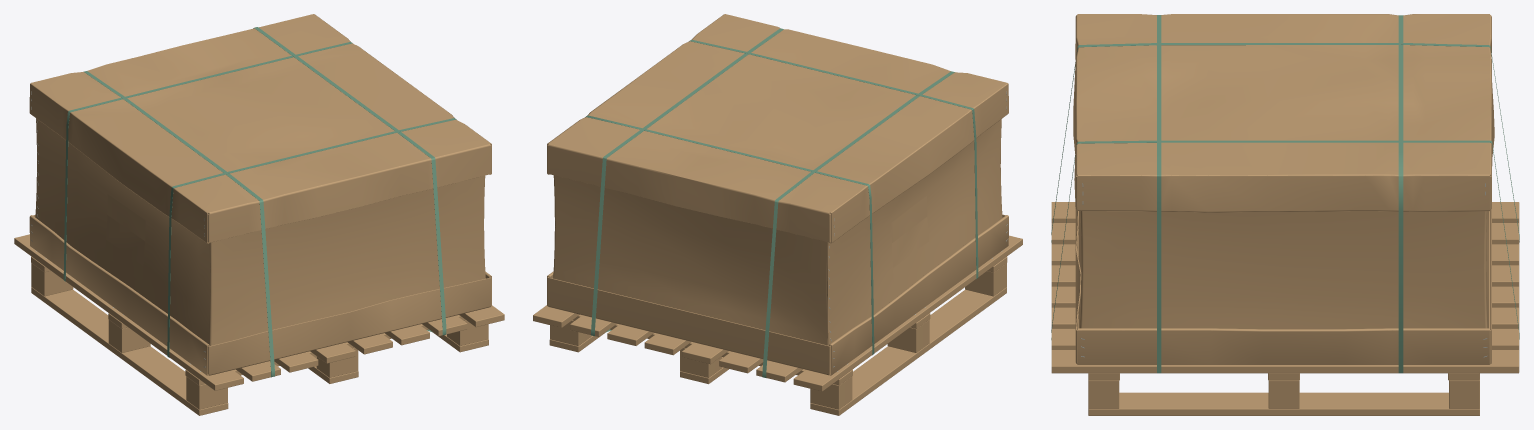
File: box_cardboard_large_a02.glb
3 renders of one model, left to right at view 1: azimuth 30°, elevation 25°; view 2: azimuth 150°, elevation 25°; view 3: azimuth 270°, elevation 25°, orthographic. The views are drawn at different scales.
Size of the model in its own units: 1 by 0.6814 by 1.2.
